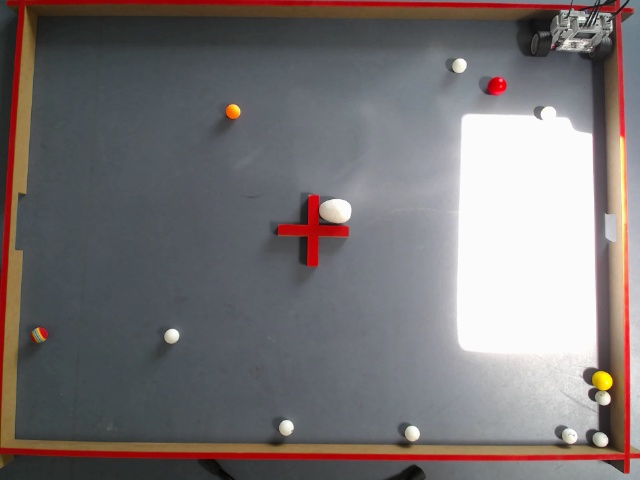big_goal: (2, 192, 26, 252)
cross: (276, 195, 348, 266)
egg: (318, 198, 352, 224)
orange: (226, 102, 240, 120)
robot: (530, 9, 614, 63)
small_goal: (604, 210, 628, 243)
wall: (0, 440, 638, 459)
white: (452, 57, 467, 74), (278, 420, 294, 435), (592, 432, 608, 447), (164, 327, 178, 344), (595, 390, 610, 405), (404, 426, 418, 441), (561, 429, 576, 443), (540, 107, 556, 120)
